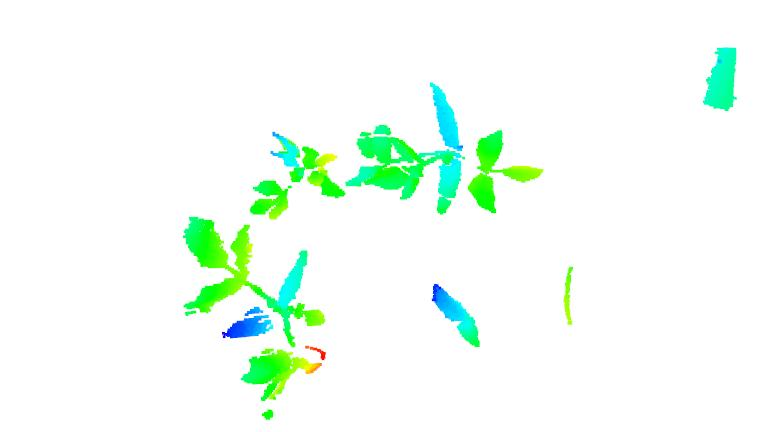mungbean: (173, 210, 330, 416), (346, 82, 544, 221), (244, 123, 346, 219), (418, 281, 492, 353)
